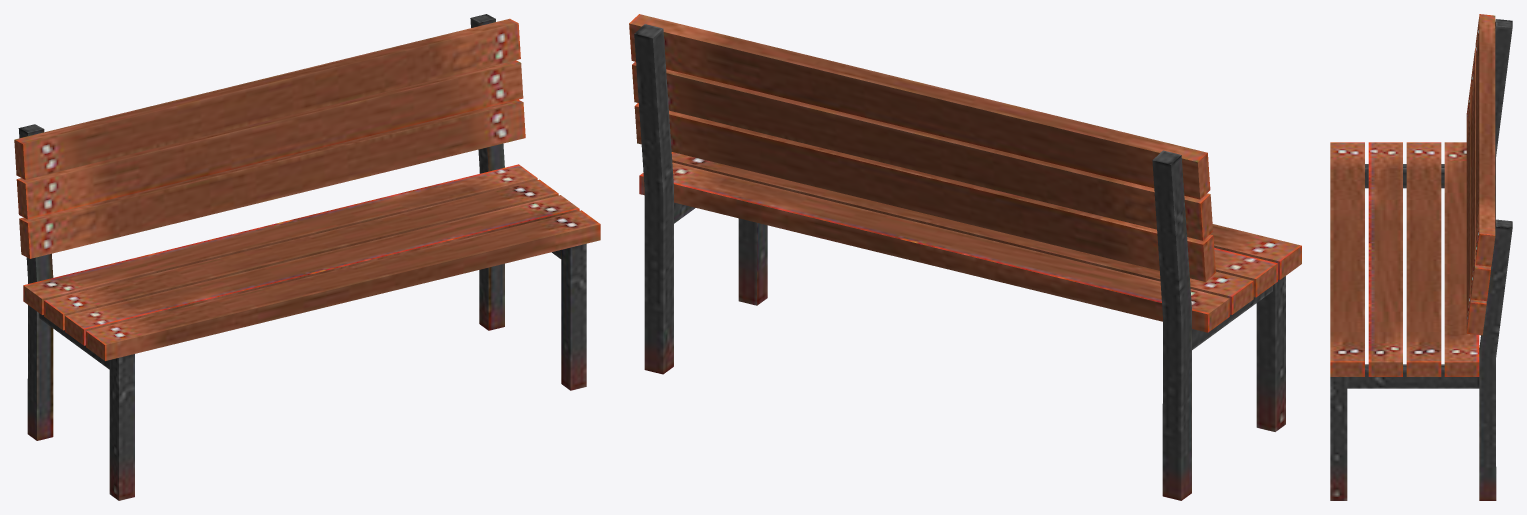
Rendered from Bancomonoblock.fbx.
3 views of the same model, side by side, from view 1: azimuth 30°, elevation 25°; view 2: azimuth 150°, elevation 25°; view 3: azimuth 270°, elevation 25° (orthographic). The views are drawn at different scales.
Parts seen in each view (by area): view 1: Bench; view 2: Bench; view 3: Bench.
Boxes of the visible parts, box(x1,y1,x2,y2) form: Bench: box(14, 14, 600, 500); Bench: box(629, 14, 1301, 500); Bench: box(1330, 14, 1512, 500).
Size of the model in its own units: 175 by 102 by 61.24.
